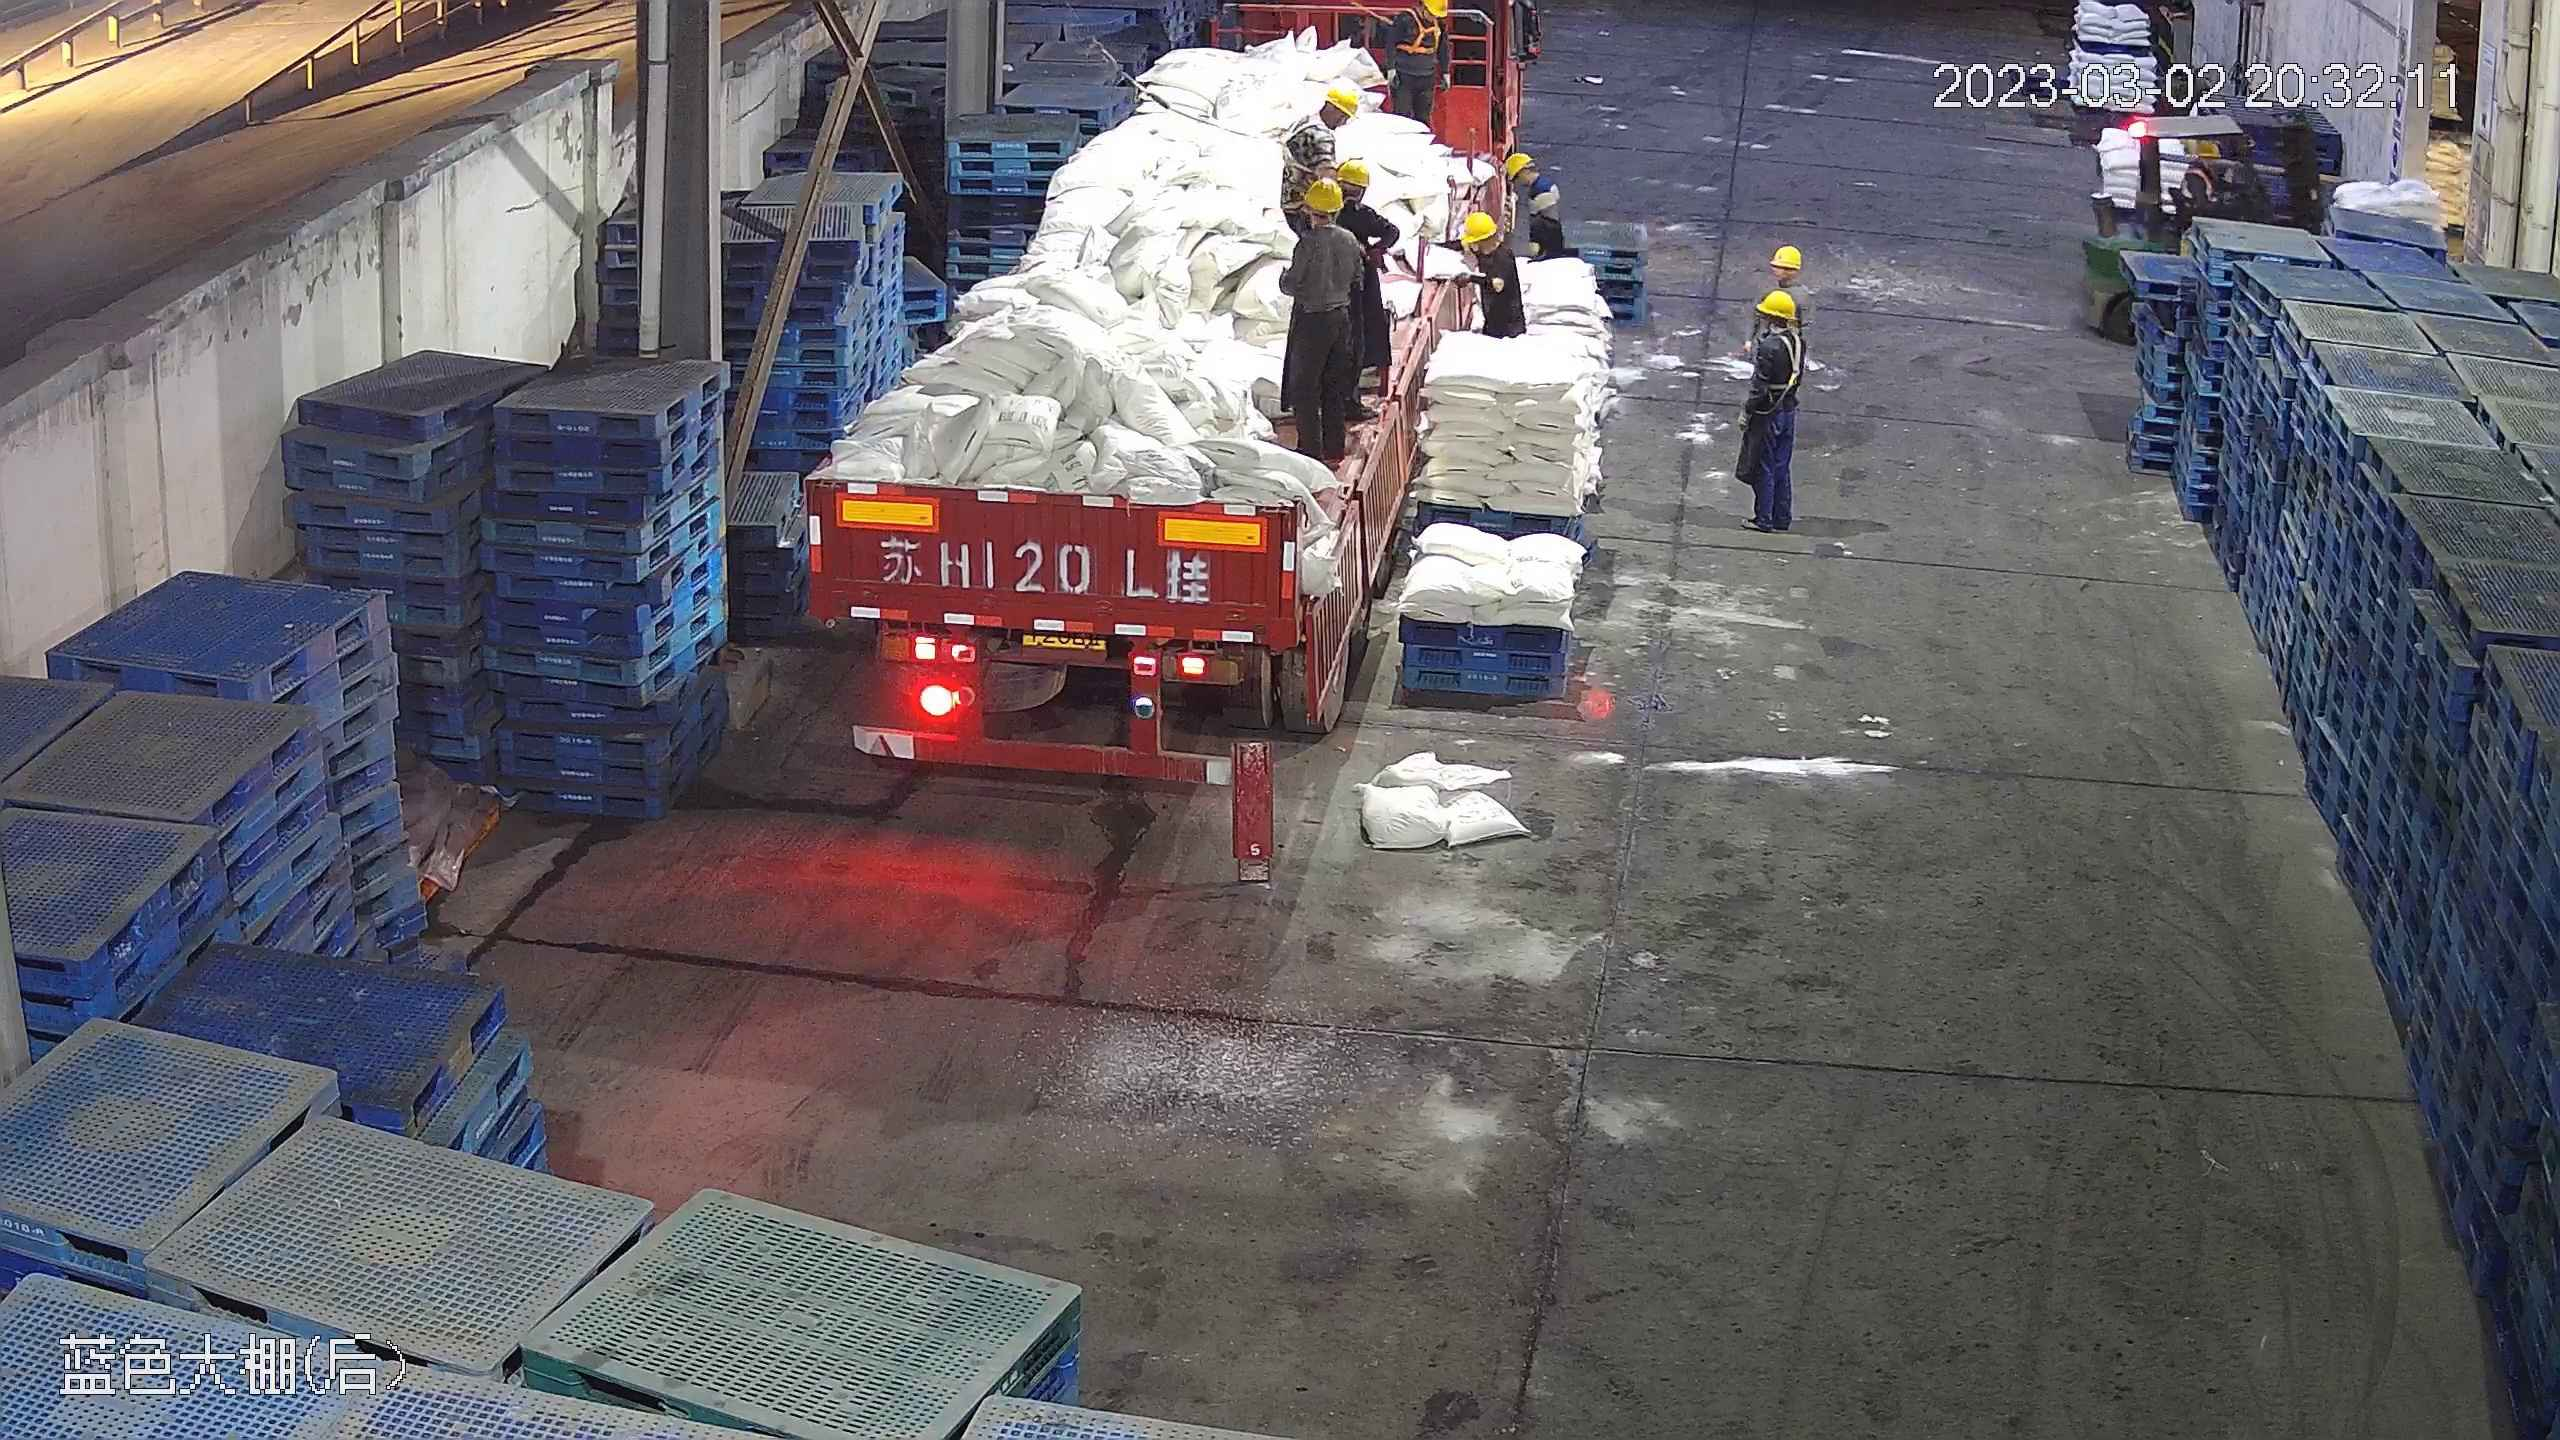belt: (1756, 324, 1804, 390), (1285, 116, 1338, 175), (1394, 11, 1444, 60), (1468, 242, 1512, 291)
head: (1282, 175, 1361, 279), (1450, 210, 1524, 298), (1743, 289, 1803, 372), (1286, 89, 1356, 153), (1496, 148, 1558, 212), (1396, 1, 1452, 46)
helmet: (1293, 175, 1339, 212), (1757, 277, 1800, 314), (1460, 209, 1501, 245), (1326, 155, 1369, 189), (1325, 84, 1360, 114), (1771, 242, 1802, 268), (1501, 148, 1532, 173), (1422, 1, 1449, 18)
people: (1257, 176, 1375, 471), (1730, 281, 1809, 535), (1378, 1, 1451, 133)
truck: (794, 9, 1486, 781)
